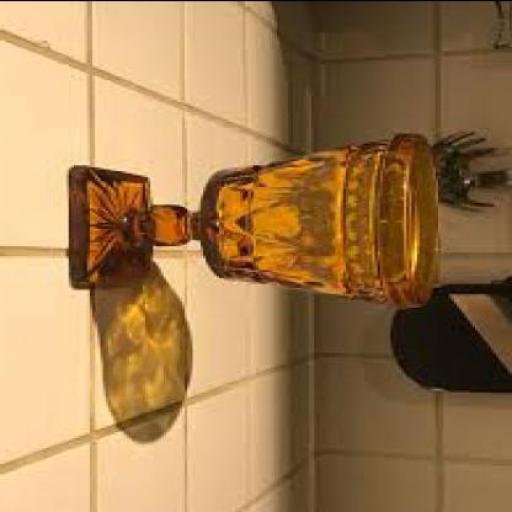glass: (71, 128, 443, 303)
